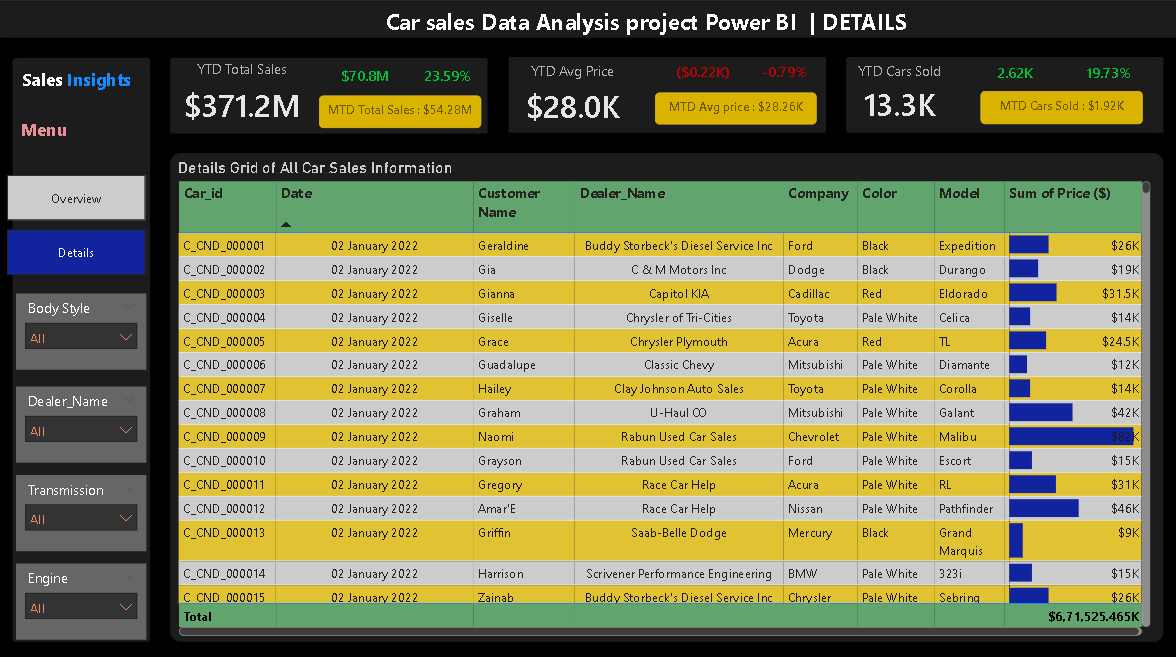

This screenshot's page, from the dashboard's own definition file:
{"tool":"powerbi","page":{"name":"Details","canvas":[1280,720],"ordinal":1},"visuals":[{"type":"card","title":"YTD Total Sales","fields":{"Values":["car_data.YTD Total Sales"]},"box":[189.5,64,148.8,77.9],"z":0},{"type":"card","fields":{"Values":["car_data.Sales Difference"]},"box":[355.8,64,82.6,38.4],"z":1000},{"type":"card","fields":{"Values":["car_data.YOY Sales growth"]},"box":[448.8,64,75.6,38.4],"z":2000},{"type":"card","fields":{"Values":["car_data.MTD KPI 1"]},"box":[347.7,102.3,176,35],"z":3000},{"type":"card","title":"YTD Avg Price","fields":{"Values":["car_data.YTD Avg Price"]},"box":[548.8,65.1,150,77.9],"z":4000},{"type":"card","fields":{"Values":["car_data.Avg Price Diff"]},"box":[714,64,101.2,24.4],"z":5000},{"type":"card","fields":{"Values":["car_data.YOY Avg Price Growth"]},"box":[801.2,64,101.2,24.4],"z":6000},{"type":"card","fields":{"Values":["car_data.MTD Avg Price KPI"]},"box":[712.8,98.8,175.6,34.9],"z":7000},{"type":"card","title":"YTD Cars Sold","fields":{"Values":["car_data.YTD Cars Sold"]},"box":[902.4,65.5,150,73.8],"z":8000},{"type":"card","fields":{"Values":["car_data.Cars Sold Diff"]},"box":[1052.4,65.5,101.2,25],"z":9000},{"type":"card","fields":{"Values":["car_data.YOY Cars Sold Growth"]},"box":[1153.6,65.5,101.2,25],"z":10000},{"type":"card","fields":{"Values":["car_data.MTD Cars Sold KPI"]},"box":[1065.5,97.6,176.2,35.7],"z":11000},{"type":"textbox","box":[355.2,0,696.8,42.1],"z":12000},{"type":"slicer","fields":{"Values":["car_data.Body Style"]},"box":[19.6,317.6,141.5,82.8],"z":13000},{"type":"slicer","fields":{"Values":["car_data.Dealer_Name"]},"box":[19.6,418.4,141.5,82.8],"z":14000},{"type":"slicer","fields":{"Values":["car_data.Transmission"]},"box":[19.6,513.2,141.5,82.8],"z":15000},{"type":"slicer","fields":{"Values":["car_data.Engine"]},"box":[19.6,609.5,141.5,82.8],"z":16000},{"type":"tableEx","title":"Details Grid of All Car Sales Information","fields":{"Values":["car_data.Car_id","car_data.Date","car_data.Customer Name","car_data.Dealer_Name","car_data.Company","car_data.Color","car_data.Model","Sum(car_data.Price ($))"]},"box":[189.6,170.1,1064.1,522.3],"z":17000},{"type":"textbox","box":[10.5,66.2,150.5,42.1],"z":18000},{"type":"textbox","box":[19.6,120.4,79.8,49.7],"z":19000},{"type":"pageNavigator","box":[10.5,188.1,150.5,108.4],"z":20000}]}

Visuals, with their boxes in screenshot pixels (x1, y1, x2, y2), scaled from the page's 1280x720 canvas onto the 1176x657 screenshot:
"YTD Total Sales" card: 174:58:311:129
card - car_data.Sales Difference: 327:58:403:93
card - car_data.YOY Sales growth: 412:58:482:93
card - car_data.MTD KPI 1: 319:93:481:125
"YTD Avg Price" card: 504:59:642:130
card - car_data.Avg Price Diff: 656:58:749:81
card - car_data.YOY Avg Price Growth: 736:58:829:81
card - car_data.MTD Avg Price KPI: 655:90:816:122
"YTD Cars Sold" card: 829:60:967:127
card - car_data.Cars Sold Diff: 967:60:1060:83
card - car_data.YOY Cars Sold Growth: 1060:60:1153:83
card - car_data.MTD Cars Sold KPI: 979:89:1141:122
textbox: 326:0:967:38
slicer - car_data.Body Style: 18:290:148:365
slicer - car_data.Dealer_Name: 18:382:148:457
slicer - car_data.Transmission: 18:468:148:544
slicer - car_data.Engine: 18:556:148:632
"Details Grid of All Car Sales Information" tableEx: 174:155:1152:632
textbox: 10:60:148:99
textbox: 18:110:91:155
pageNavigator: 10:172:148:271
